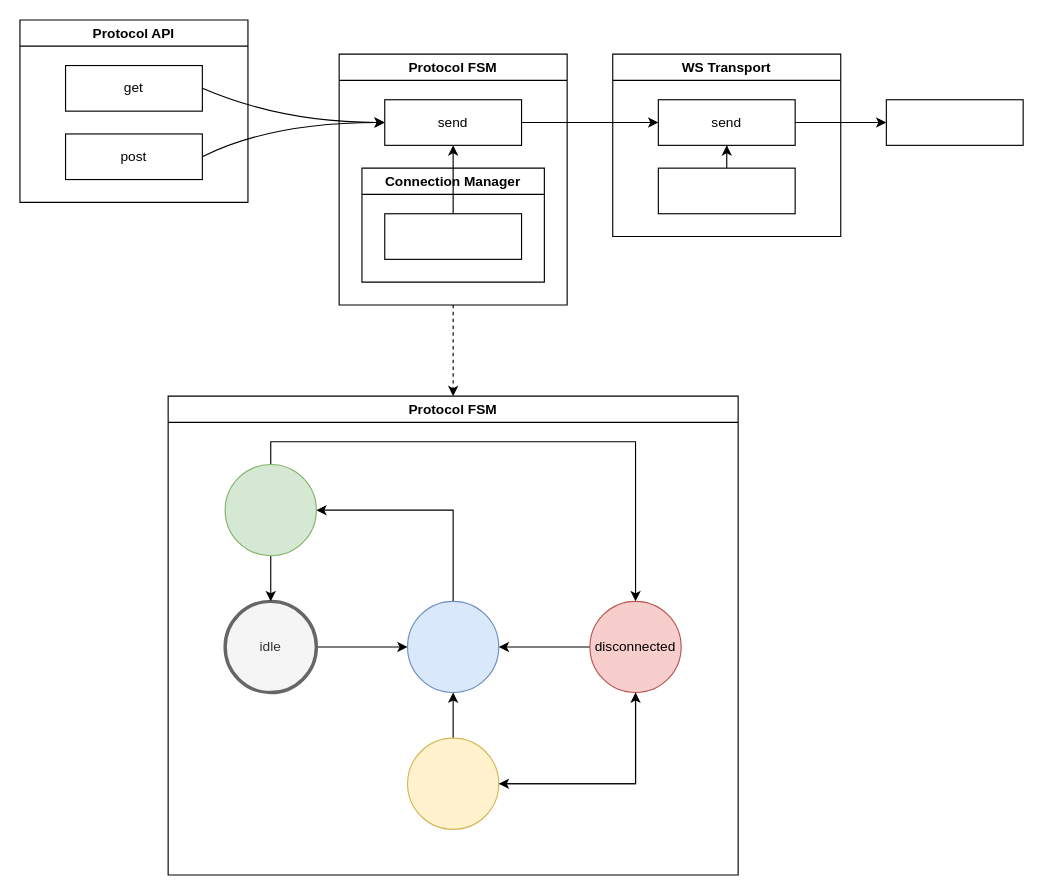
Image size: 1043x895. Some labels were removed from this diagram. Each missing label, with the centre of its shape:
authenficating: [452,783]
connected: [270,509]
connecting: [452,646]
map: [726,190]
ping timer: [453,236]
WebSocket: [954,122]
